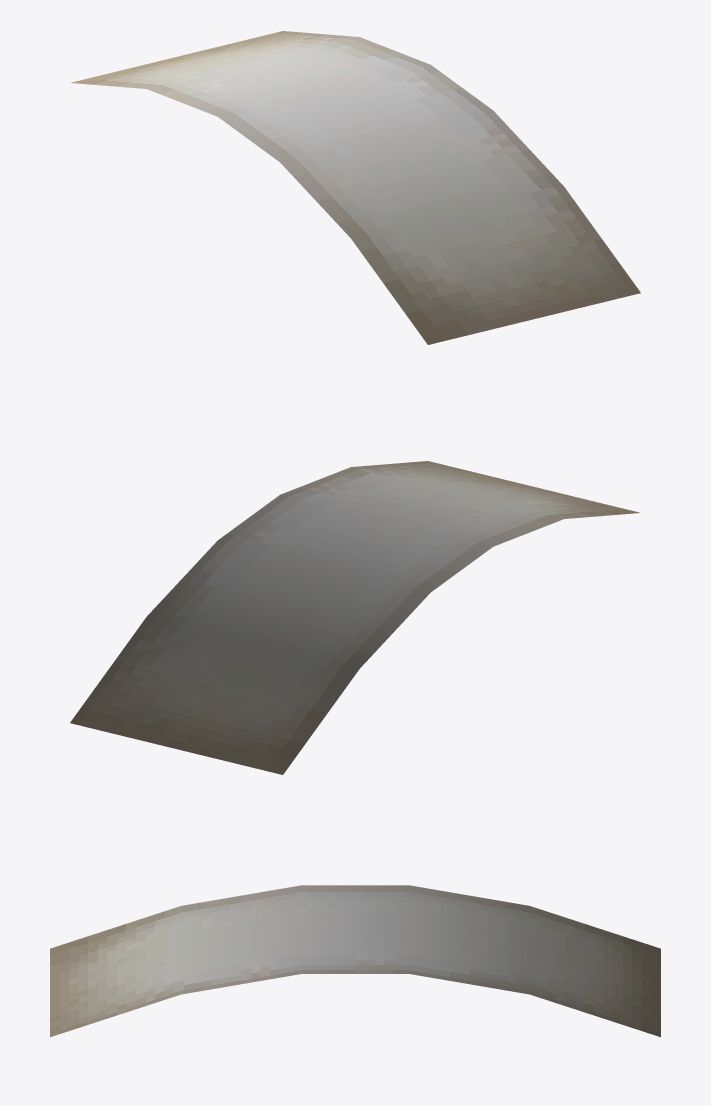
The model's file is light_wall_rect.fbx.
The picture shows the model from 3 angles, top to bottom: view 1: azimuth 30°, elevation 25°; view 2: azimuth 150°, elevation 25°; view 3: azimuth 270°, elevation 25°; orthographic projection. The views are drawn at different scales.
Parts seen in each view (by area): view 1: mesh_0; view 2: mesh_0; view 3: mesh_0.
Part boxes in pixels (bbox=[...]): mesh_0: bbox=[70, 31, 640, 344]; mesh_0: bbox=[70, 461, 640, 774]; mesh_0: bbox=[50, 885, 660, 1037].
Size of the model in its own units: 24.43 by 10.01 by 60.
Materials: 1 (1 with a texture image).
